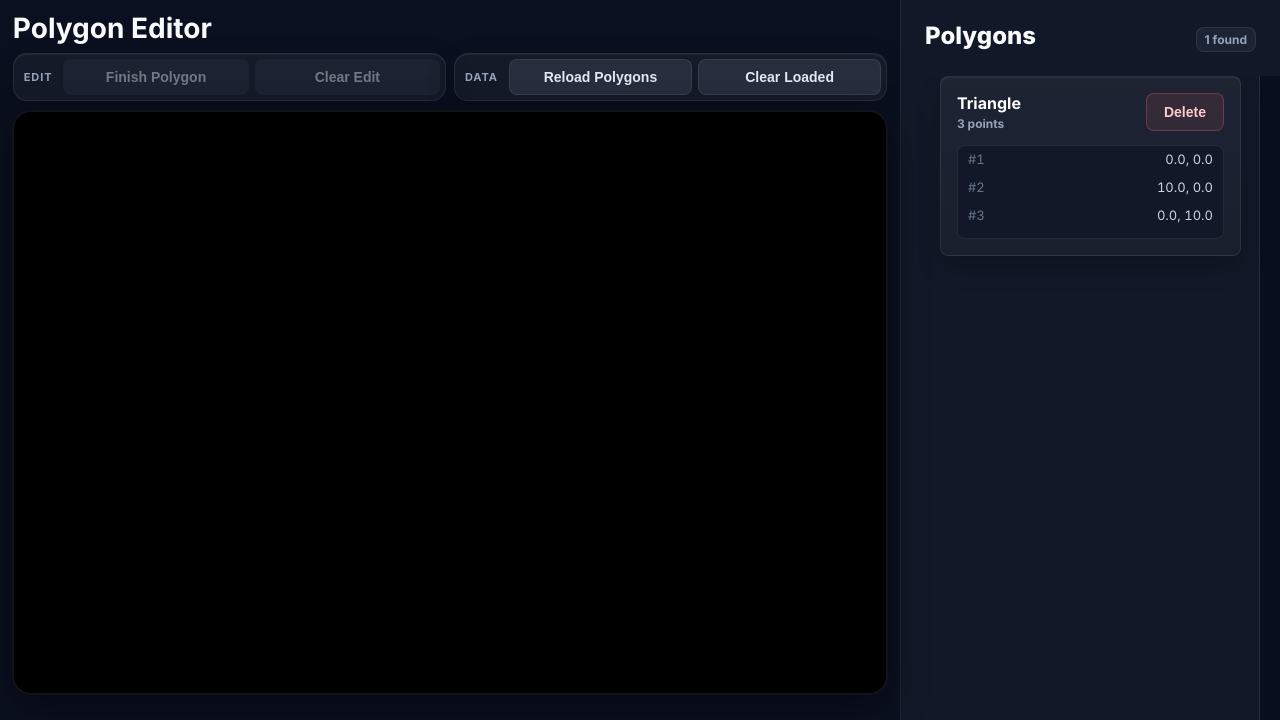
Test: App polygon operations › restores a polygon and shows a dismissible notification when delete fails
expect the text "Triangle" is shown: met, box [957, 93, 1021, 113]
Click the button "Delete".
click(1185, 112)  # box [1146, 93, 1224, 131]
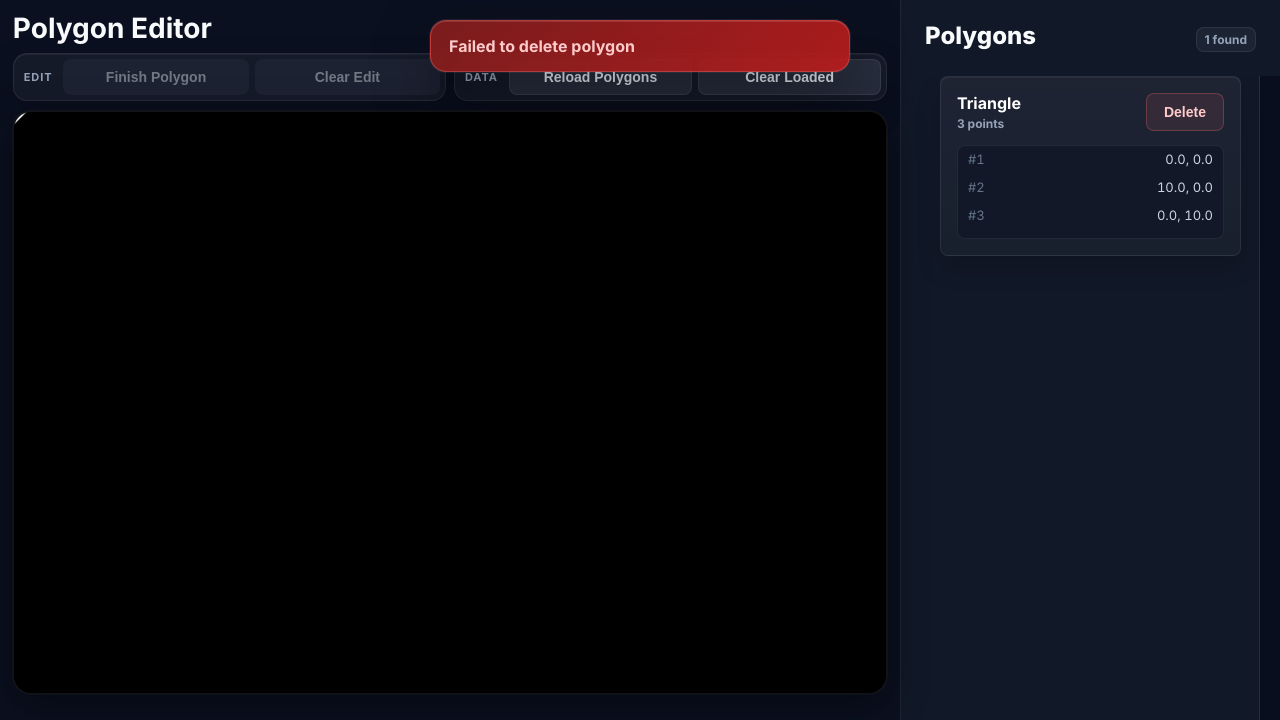
expect the text "Triangle" is shown: met, box [957, 93, 1021, 113]
expect the message reads "Failed to delete polygon": met, box [449, 36, 635, 56]
Click the heading "Polygon Editor".
click(112, 28)  # box [13, 13, 212, 43]
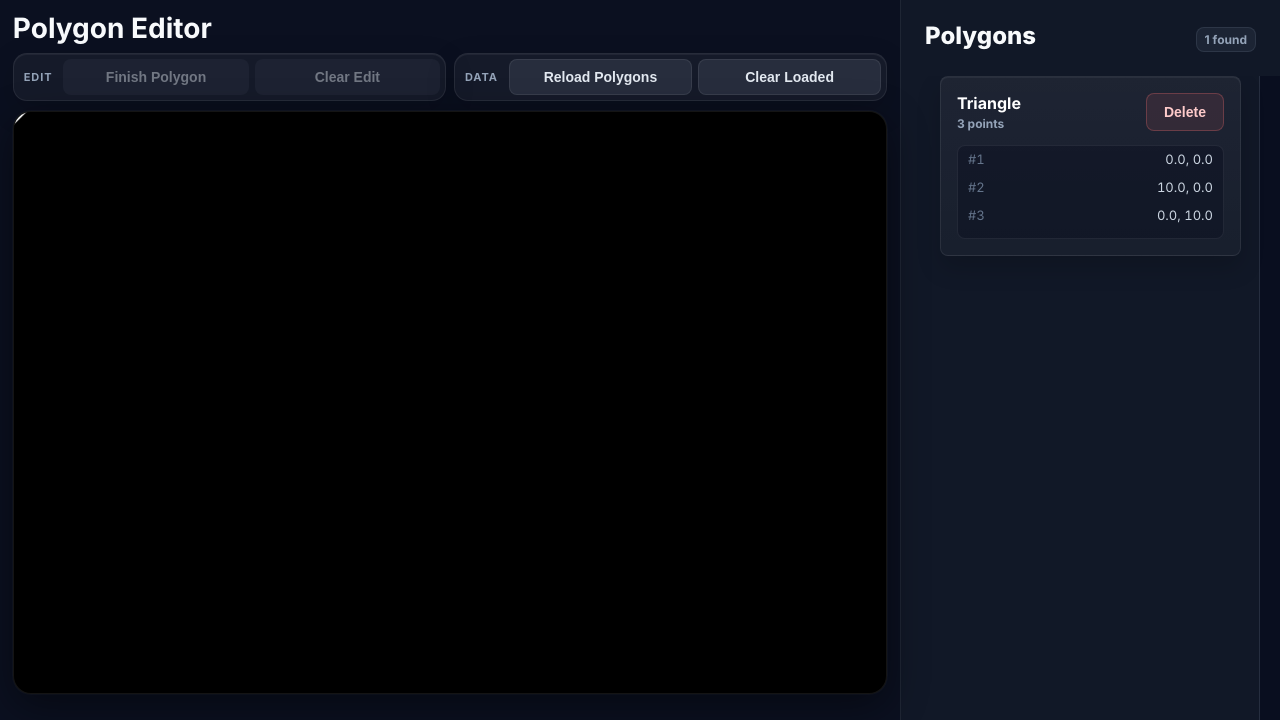
expect the message "Failed to delete polygon" is gone: met
